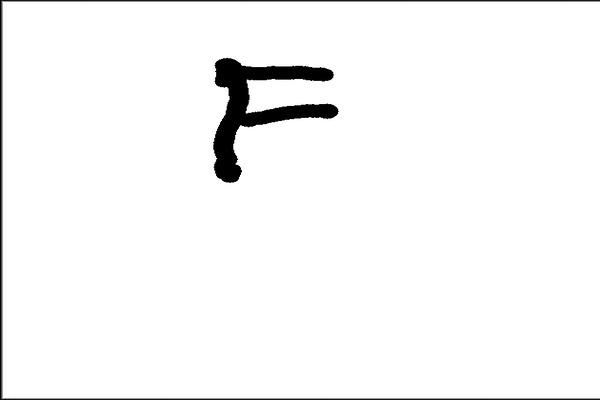F: (208, 53, 341, 186)
